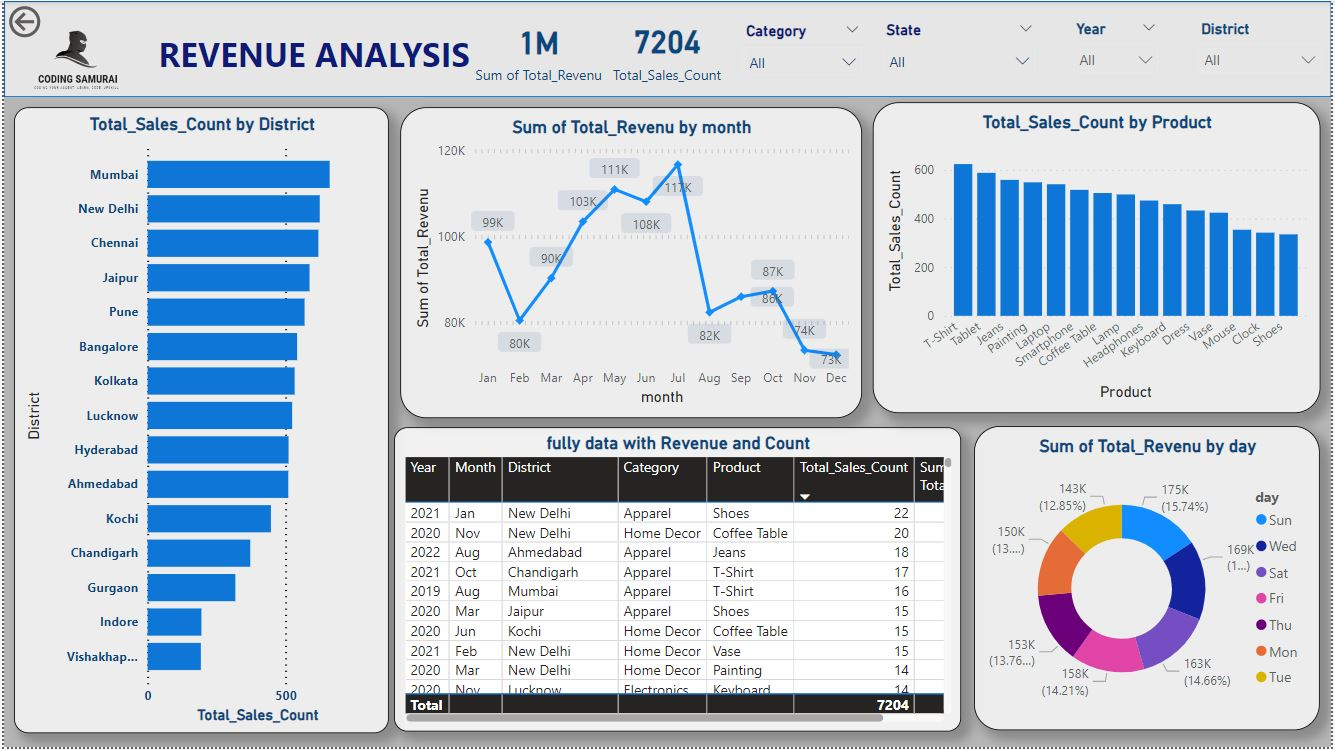

The dashboard page shown, as its layout file describes it:
{"tool":"powerbi","page":{"name":"Page 1","canvas":[1280,720],"ordinal":0},"visuals":[{"type":"barChart","fields":{"Category":["Retail store.District"],"Y":["Retail store.Total_Sales_Count"]},"box":[9.4,102.2,361.8,604],"z":0},{"type":"shape","box":[0,0,1280.5,92.8],"z":1000},{"type":"slicer","fields":{"Values":["Retail store.Year"]},"box":[1020.9,13.5,102.2,68.6],"z":2000},{"type":"slicer","fields":{"Values":["Retail store.District"]},"box":[1142,13.5,138.5,68.6],"z":3000},{"type":"slicer","fields":{"Values":["Retail store.State"]},"box":[838,14.8,166.8,68.6],"z":4000},{"type":"textbox","box":[139.9,24.2,318.8,68.6],"z":5000},{"type":"image","box":[0,0,139.9,114.3],"z":6000},{"type":"card","fields":{"Values":["Sum(Retail store.Total_Revenu)"]},"box":[442.5,6.7,146.6,79.4],"z":7000},{"type":"card","fields":{"Values":["Retail store.Total_Sales_Count"]},"box":[563.6,0,153.3,92.8],"z":8000},{"type":"lineChart","fields":{"Category":["date.month"],"Y":["Sum(Retail store.Total_Revenu)"]},"box":[382,102.2,445.2,300],"z":10000},{"type":"tableEx","title":"fully data with Revenue and Count","fields":{"Values":["Retail store.Year","Retail store.Month","Retail store.District","Retail store.Category","Retail store.Product","Retail store.Total_Sales_Count","Sum(Retail store.Total_Revenu)"]},"box":[376.6,411.6,547.5,293.2],"z":10001},{"type":"actionButton","box":[0,0,100,40],"z":10002},{"type":"slicer","fields":{"Values":["Retail store.Category"]},"box":[703.5,16.1,134.5,68.6],"z":10003},{"type":"clusteredColumnChart","fields":{"Category":["Retail store.Product"],"Y":["Retail store.Total_Sales_Count"]},"box":[838,98.2,431.8,300],"z":10004},{"type":"donutChart","fields":{"Category":["date.day"],"Y":["Sum(Retail store.Total_Revenu)"]},"box":[936.2,410.3,333.6,293.2],"z":10005}]}

Visuals, with their boxes in screenshot pixels (x1, y1, x2, y2), scaled from the page's 1280x720 canvas onto the 1335x750 screenshot:
barChart - Retail store.District x Retail store.Total_Sales_Count: left=10, top=106, right=387, bottom=736
shape: left=0, top=0, right=1334, bottom=97
slicer - Retail store.Year: left=1065, top=14, right=1171, bottom=86
slicer - Retail store.District: left=1191, top=14, right=1334, bottom=86
slicer - Retail store.State: left=874, top=15, right=1048, bottom=87
textbox: left=146, top=25, right=478, bottom=97
image: left=0, top=0, right=146, bottom=119
card - Sum(Retail store.Total_Revenu): left=462, top=7, right=614, bottom=90
card - Retail store.Total_Sales_Count: left=588, top=0, right=748, bottom=97
lineChart - date.month x Sum(Retail store.Total_Revenu): left=398, top=106, right=863, bottom=419
"fully data with Revenue and Count" tableEx: left=393, top=429, right=964, bottom=734
actionButton: left=0, top=0, right=104, bottom=42
slicer - Retail store.Category: left=734, top=17, right=874, bottom=88
clusteredColumnChart - Retail store.Product x Retail store.Total_Sales_Count: left=874, top=102, right=1324, bottom=415
donutChart - date.day x Sum(Retail store.Total_Revenu): left=976, top=427, right=1324, bottom=733
